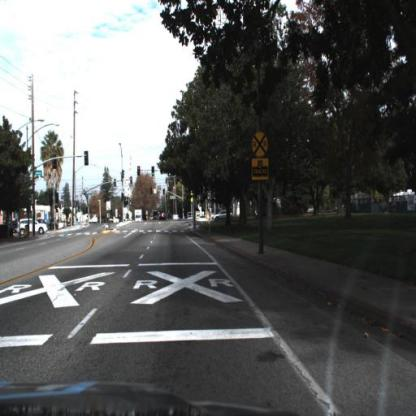car: (17, 217, 49, 235), (212, 209, 235, 225), (157, 211, 168, 227), (171, 210, 181, 224)
trafficLight-Green: (151, 166, 156, 179), (152, 167, 157, 178)
trafficLight-RedLeft: (138, 166, 143, 177)
truck: (133, 207, 144, 228)
